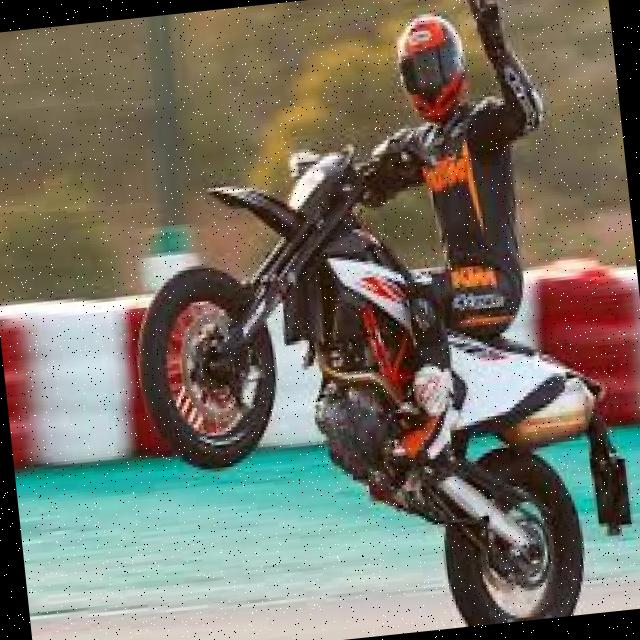Wheeling: (102, 0, 597, 640)
